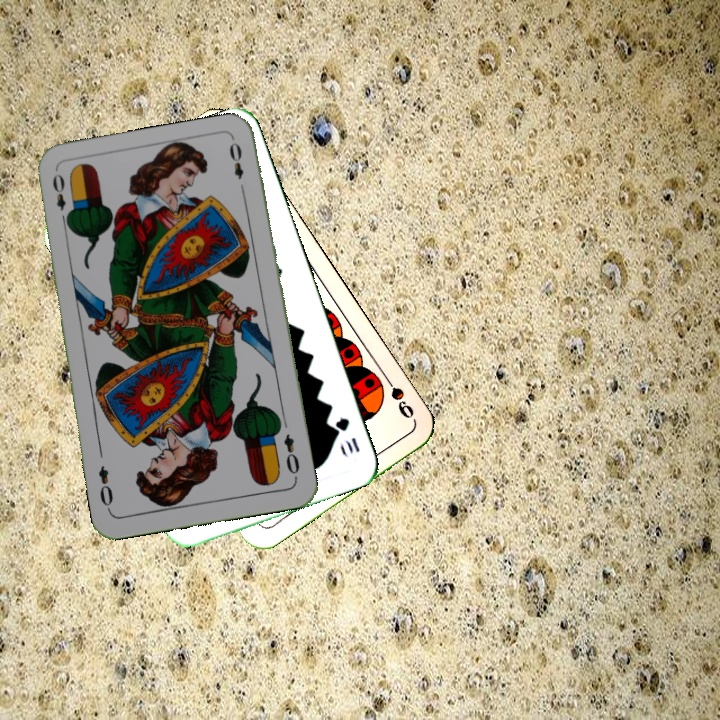EO: (48, 170, 73, 227), (280, 430, 302, 482)
G10: (331, 413, 363, 455)
S9: (371, 370, 418, 423)
